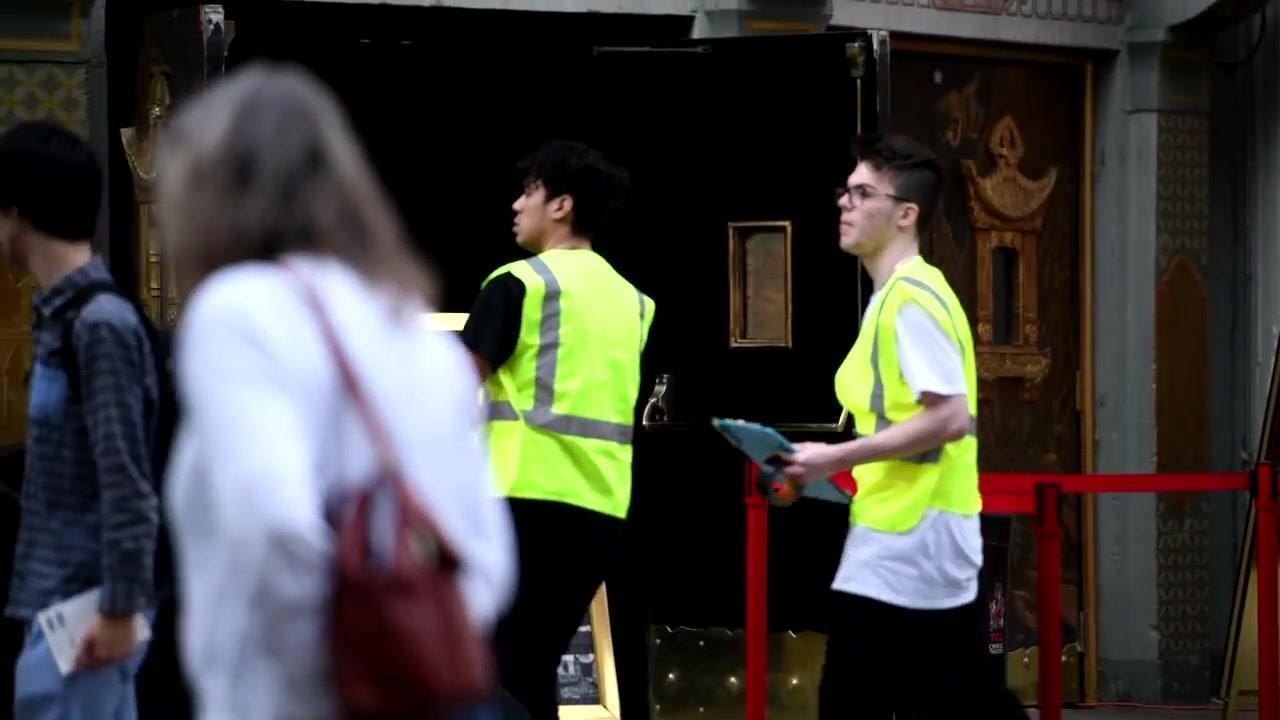Glass: (478, 246, 654, 518), (832, 259, 985, 530)
